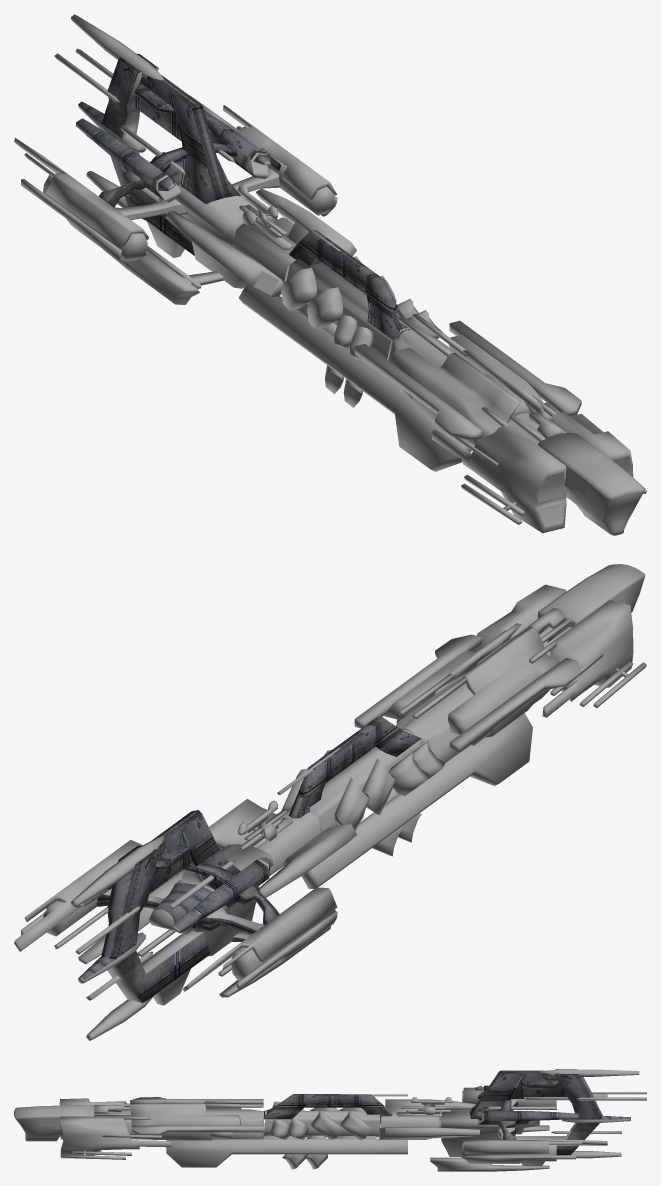
Rendered from humanCruiser.dae.
3 renders of one model, top to bottom at view 1: azimuth 30°, elevation 25°; view 2: azimuth 150°, elevation 25°; view 3: azimuth 270°, elevation 25°, orthographic. The views are drawn at different scales.
Visible parts, largest first — view 1: Cube; view 2: Cube; view 3: Cube.
Part boxes in pixels (left/top/right/bottom): Cube: left=14, top=14, right=646, bottom=535; Cube: left=14, top=564, right=646, bottom=1040; Cube: left=14, top=1069, right=646, bottom=1171.
Bounding box in the file's own units: 14.41 × 10.71 × 63.95.
